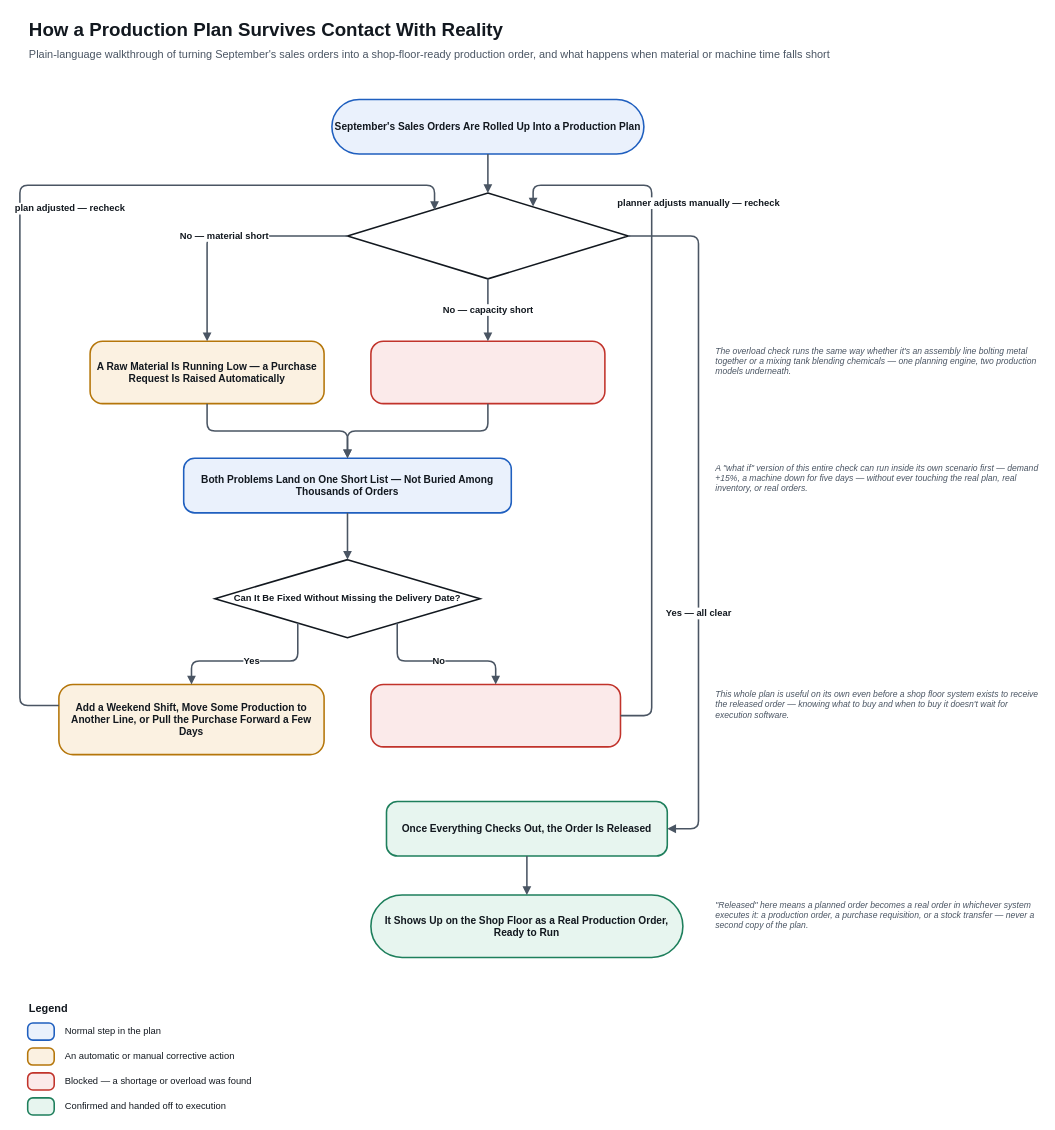
Some shapes in this 1055 by 1130 pixel diagram are drawn without their labels. The centre of each missing label's shape, as x and y in pixels:
"Is There Enough Material and Machine Time to Actually Make It?" goes at point (487, 235).
"The Assembly Line Is Booked Past 100% — Flagged as Overloaded" goes at point (487, 372).
"The Planner Is Told Exactly What's Blocking It and by How Much" goes at point (495, 715).
